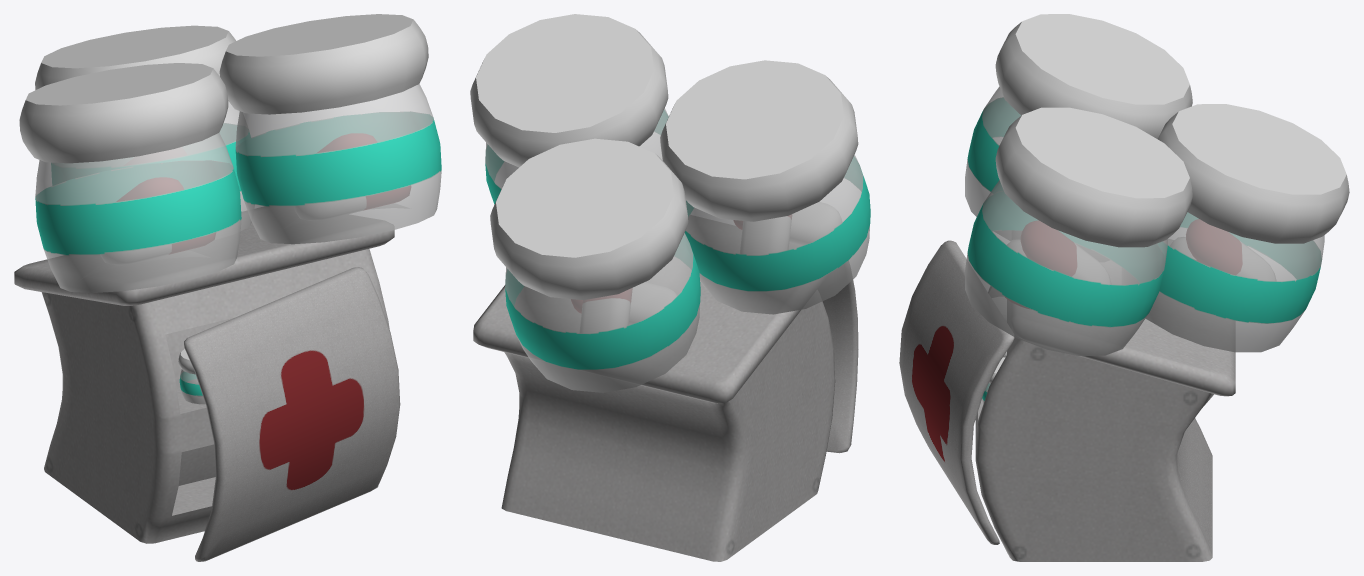
Rendered from Pill_Cabinet_OL.glb.
3 renders of one model, left to right at view 1: azimuth 30°, elevation 25°; view 2: azimuth 150°, elevation 25°; view 3: azimuth 270°, elevation 25°, orthographic. The views are drawn at different scales.
Parts seen in each view (by area): view 1: Cube.001, Cube.002, Cylinder.011, Cylinder.006, Cylinder.012, Cylinder.007, Cylinder.005, Cylinder.004, Cube, Cube.003, Cube.004, Cylinder.008 (+1 smaller); view 2: Cube.001, Cylinder.005, Cylinder.012, Cylinder.007, Cylinder.004, Cylinder.011, Cube.002, Cube.007, Cube.004, Cube.003, Cylinder.006, Cube.005; view 3: Cube.001, Cylinder.006, Cylinder.007, Cylinder.005, Cube.002, Cylinder.004, Cylinder.012, Cylinder.011, Cube.007, Cube.006.
Part boxes in pixels (x1,y1,x2,y2): Cube.001: (14, 206, 394, 543); Cube.002: (184, 267, 400, 561); Cylinder.011: (35, 133, 241, 292); Cylinder.006: (235, 84, 441, 244); Cylinder.012: (19, 63, 228, 163); Cylinder.007: (219, 14, 428, 114); Cylinder.005: (35, 25, 235, 89); Cylinder.004: (51, 101, 254, 239); Cube: (294, 186, 410, 220); Cube.003: (101, 233, 215, 264); Cube.004: (117, 178, 183, 201); Cylinder.008: (179, 369, 205, 404); Cube.001: (473, 215, 835, 561); Cylinder.005: (490, 138, 688, 300); Cylinder.012: (660, 60, 858, 221); Cylinder.007: (470, 14, 668, 167); Cylinder.004: (505, 233, 700, 392); Cylinder.011: (684, 154, 870, 314); Cube.002: (818, 261, 858, 453); Cube.007: (580, 288, 631, 332); Cube.004: (740, 215, 791, 254); Cube.003: (734, 202, 841, 245); Cylinder.006: (485, 108, 668, 204); Cube.005: (571, 282, 676, 324); Cube.001: (975, 239, 1235, 561); Cylinder.006: (965, 180, 1167, 355); Cylinder.007: (995, 107, 1192, 247); Cylinder.005: (1158, 104, 1349, 243); Cube.002: (899, 240, 1014, 544); Cylinder.004: (1122, 212, 1324, 352); Cylinder.012: (995, 14, 1192, 138); Cylinder.011: (965, 86, 1108, 261); Cube.007: (1186, 219, 1275, 280); Cube.006: (1021, 221, 1110, 283).
Bounding box in the file's own units: 1.94 × 2.16 × 2.06.
6 materials, 6 textured.
